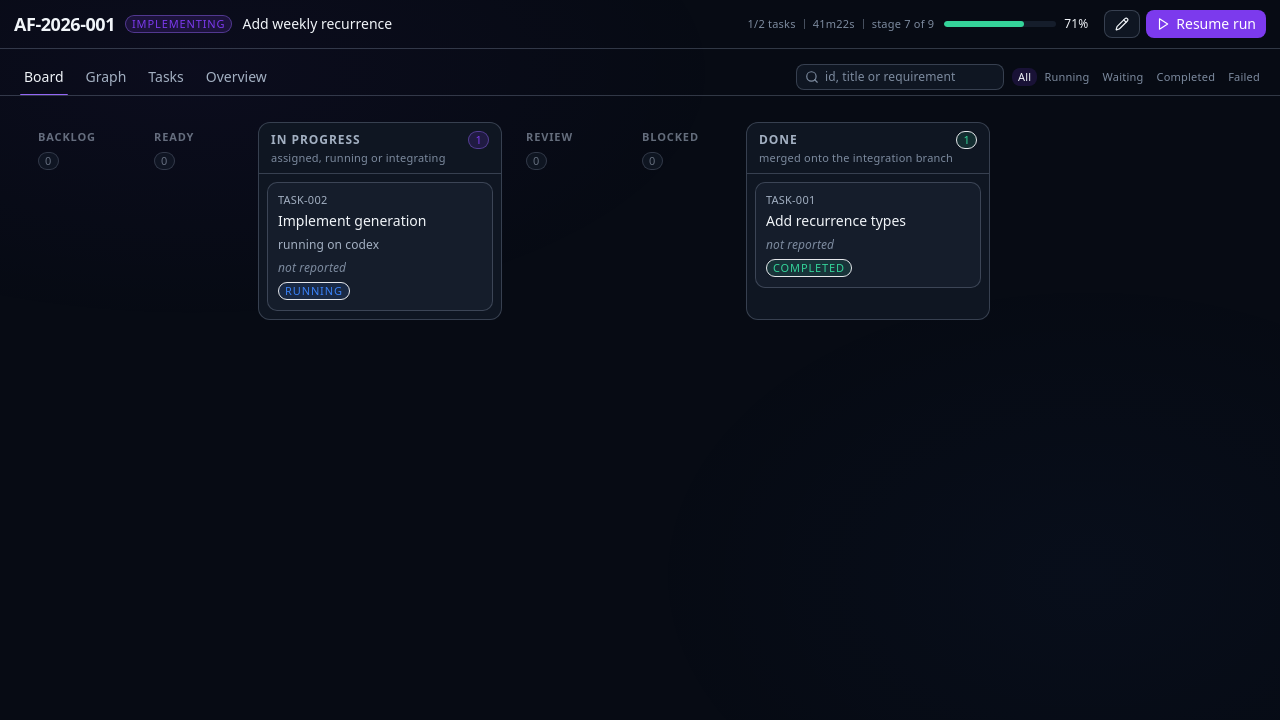
it: the run detail composition › opens a task in the inspector
The width and height of the screenshot is (1280, 720).
// From a board card, which is what the page opens on.
Click the text "Add recurrence types". click: (836, 220)
box: [766,211,906,230]
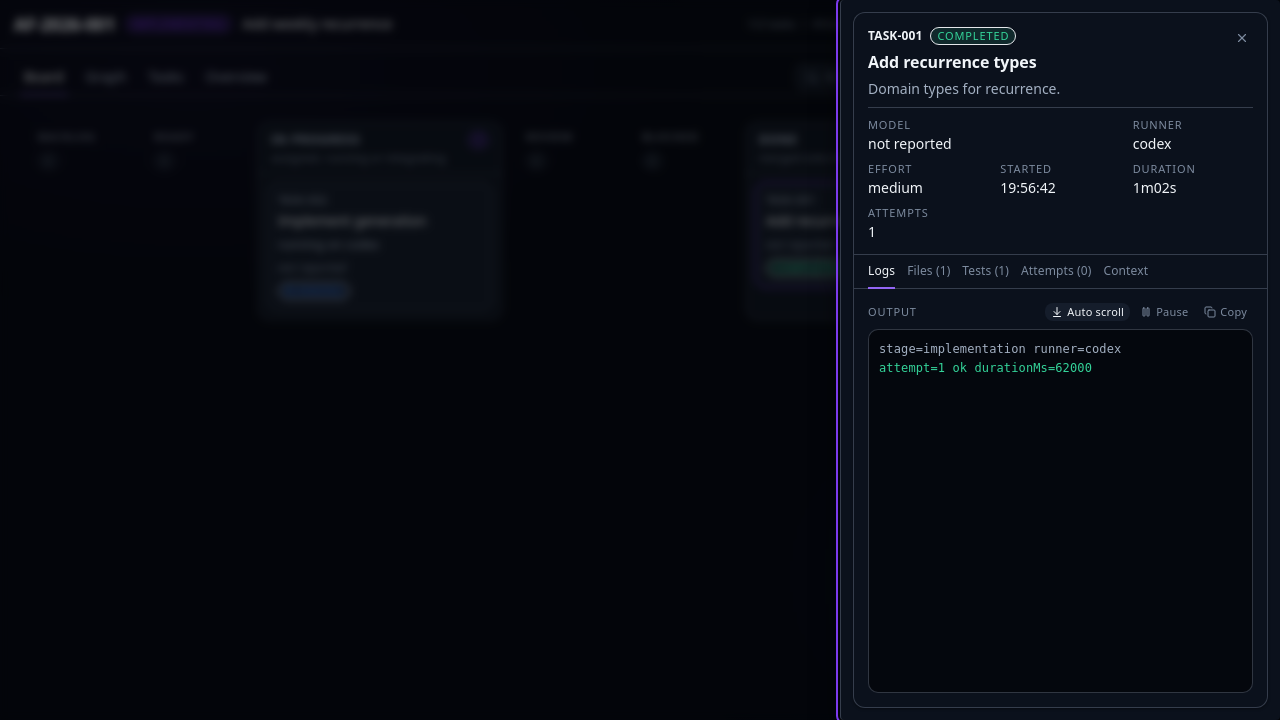
Expected: the text "Domain types for recurrence." is shown, [868,79,1060,99]
Expected: the tab "Logs" is shown, [868,255,895,289]
Expected: the text "attempt=1 ok durationMs=62000" is shown, [879,361,1092,375]
